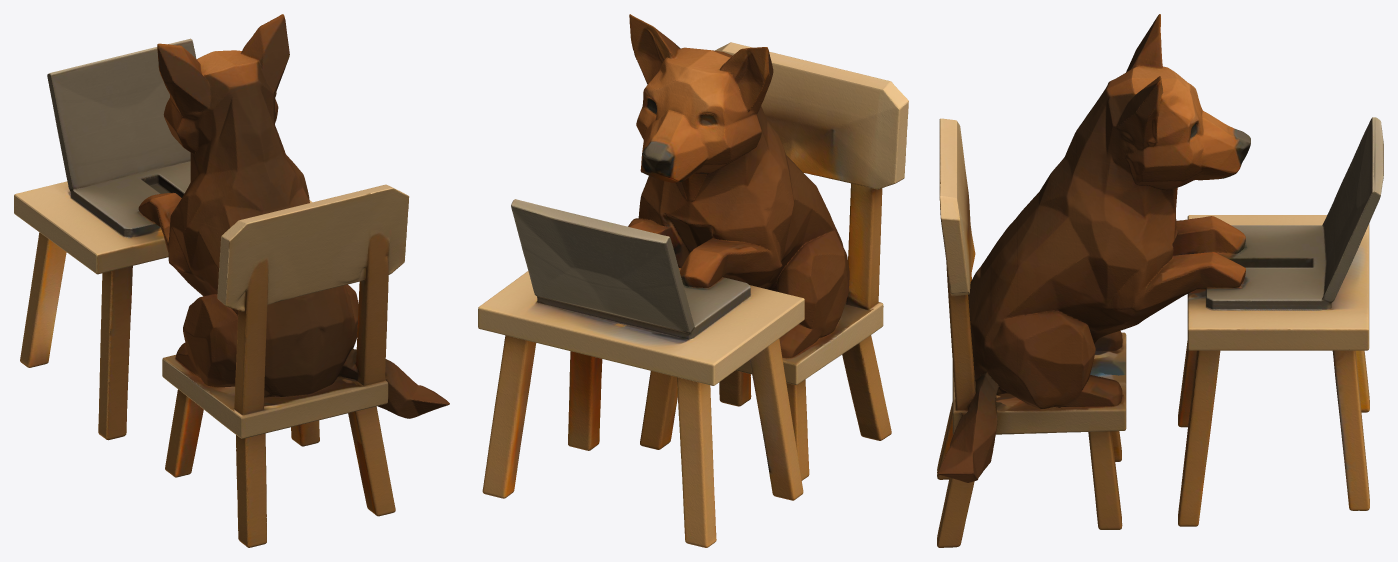
Rendered from doggy.glb.
The picture shows the model from 3 angles, left to right: view 1: azimuth 30°, elevation 25°; view 2: azimuth 150°, elevation 25°; view 3: azimuth 270°, elevation 25°; orthographic projection. The views are drawn at different scales.
Visible parts, largest first — view 1: tripo_node_86edbc73-cea7-4b26-acbb-338515d1fcd6; view 2: tripo_node_86edbc73-cea7-4b26-acbb-338515d1fcd6; view 3: tripo_node_86edbc73-cea7-4b26-acbb-338515d1fcd6.
Part boxes in pixels (x1,y1,x2,y2): tripo_node_86edbc73-cea7-4b26-acbb-338515d1fcd6: (14,14,449,547); tripo_node_86edbc73-cea7-4b26-acbb-338515d1fcd6: (478,14,908,547); tripo_node_86edbc73-cea7-4b26-acbb-338515d1fcd6: (937,14,1383,547).
Bounding box in the file's own units: 0.5852 × 1 × 0.874.
1 material, 1 textured.
